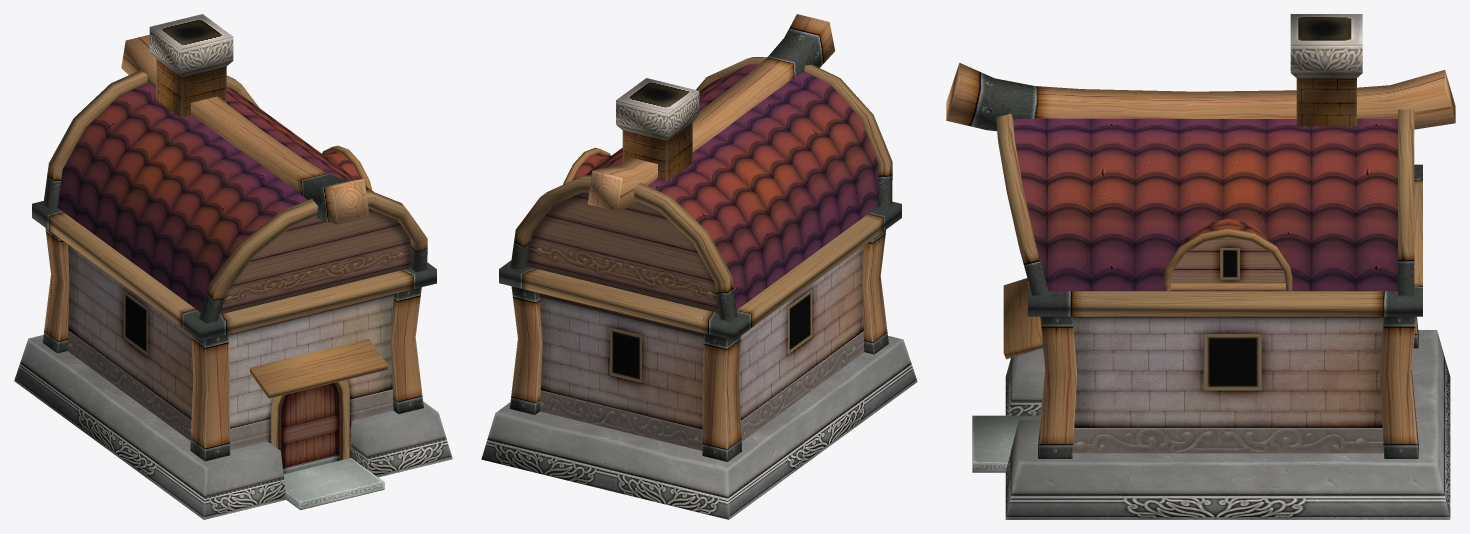
Rendered from SD_house_002.fbx.
The picture shows the model from 3 angles, left to right: view 1: azimuth 30°, elevation 25°; view 2: azimuth 150°, elevation 25°; view 3: azimuth 270°, elevation 25°; orthographic projection. The views are drawn at different scales.
Visible parts, largest first — view 1: polySurface135; view 2: polySurface135; view 3: polySurface135.
Part boxes in pixels (left/top/right/bottom): polySurface135: left=14, top=14, right=452, bottom=519; polySurface135: left=481, top=14, right=917, bottom=519; polySurface135: left=946, top=14, right=1455, bottom=519.
Bounding box in the file's own units: 10.69 × 14.67 × 16.14.
